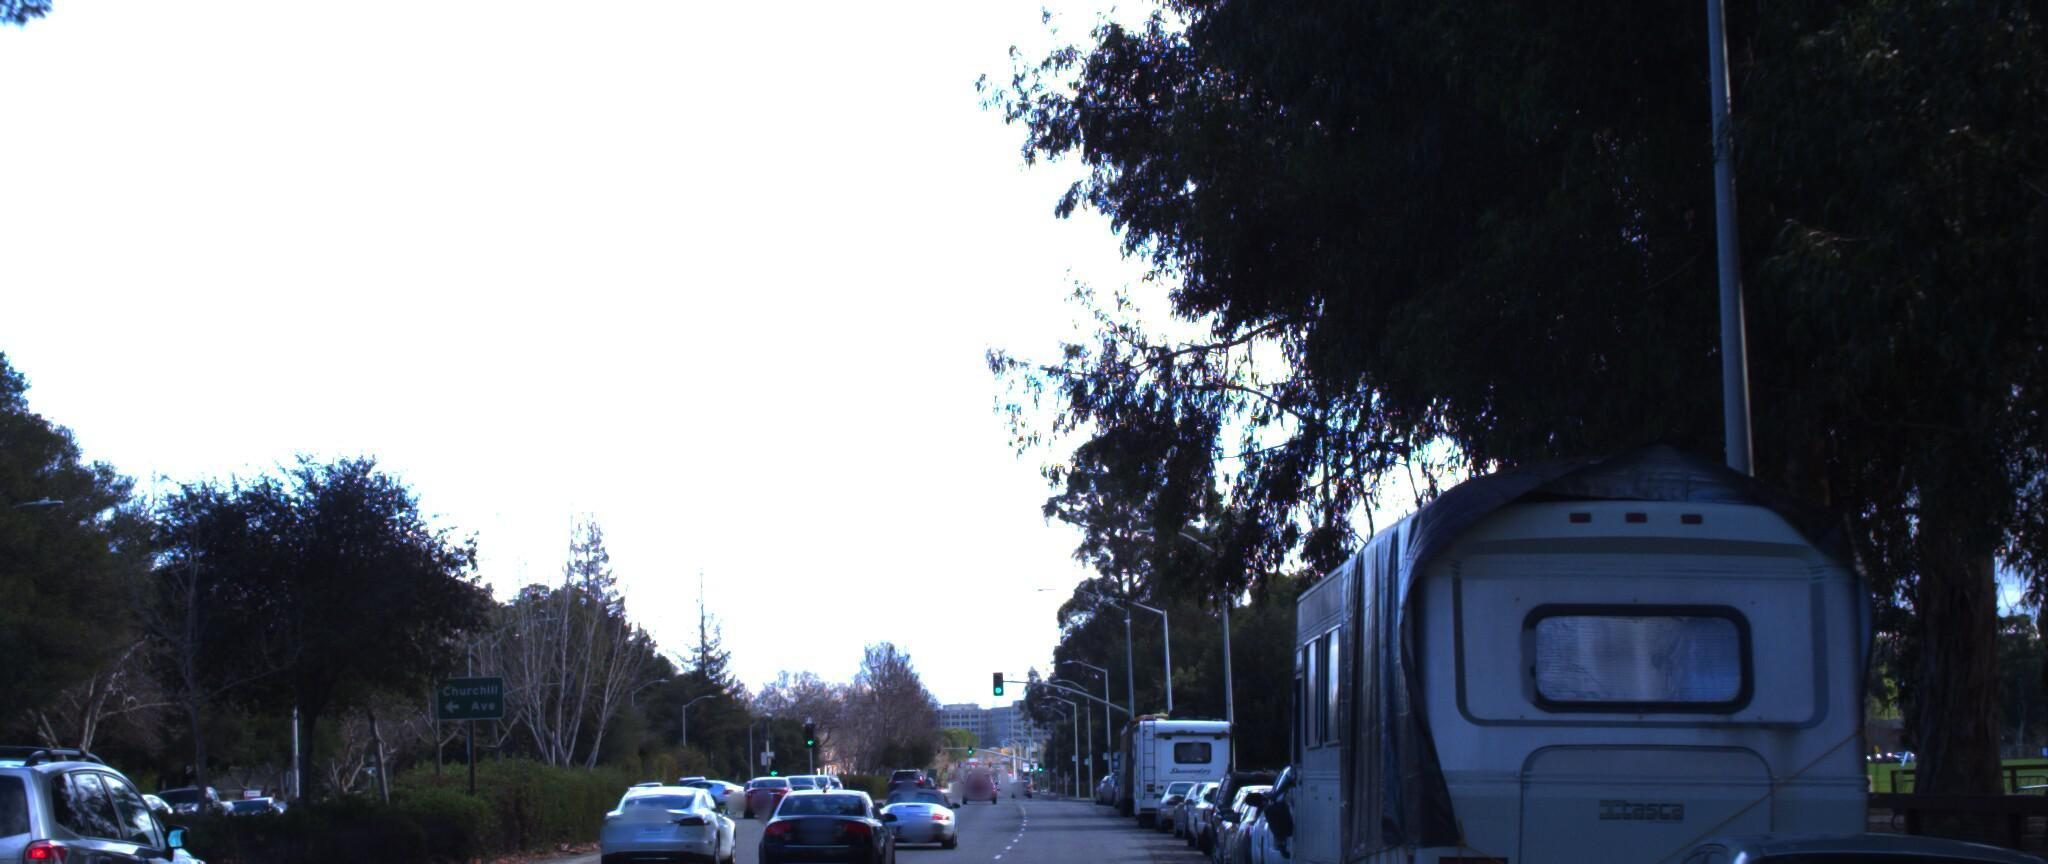car: (0, 728, 261, 864), (1576, 816, 2048, 864), (748, 758, 899, 864), (596, 771, 737, 864), (1202, 756, 1307, 859), (863, 762, 959, 850)
other_vehicle: (1266, 459, 1910, 864)
